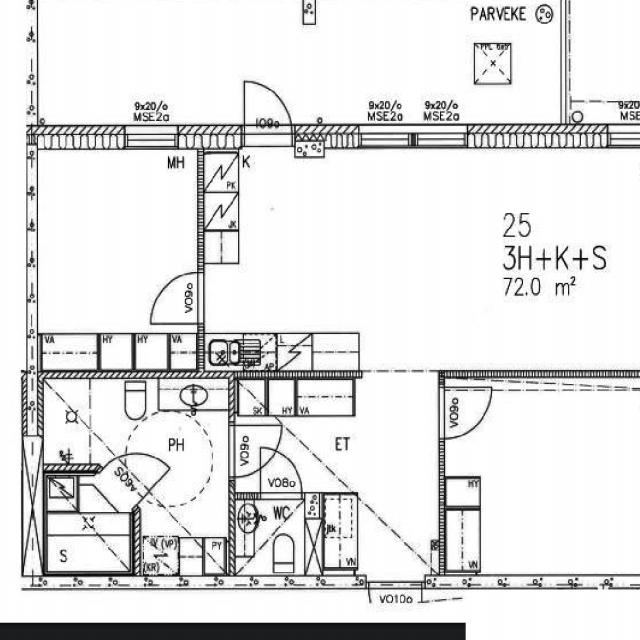door: (100, 436, 167, 509), (368, 580, 422, 640), (244, 81, 292, 146), (439, 385, 492, 438), (228, 424, 282, 476), (152, 272, 204, 323), (260, 446, 301, 497)
